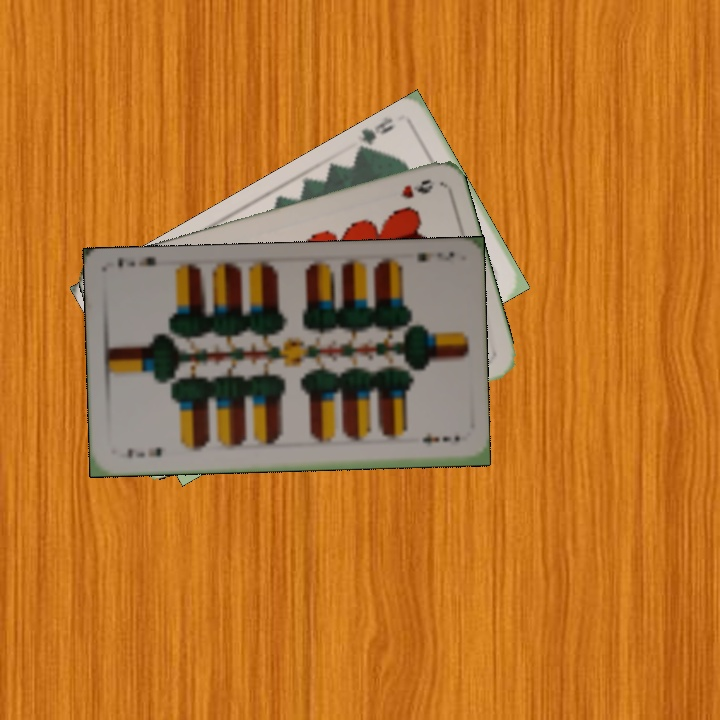E7: (122, 443, 164, 461), (413, 248, 458, 264)
G9: (354, 113, 397, 154)
H9: (397, 175, 436, 201)
